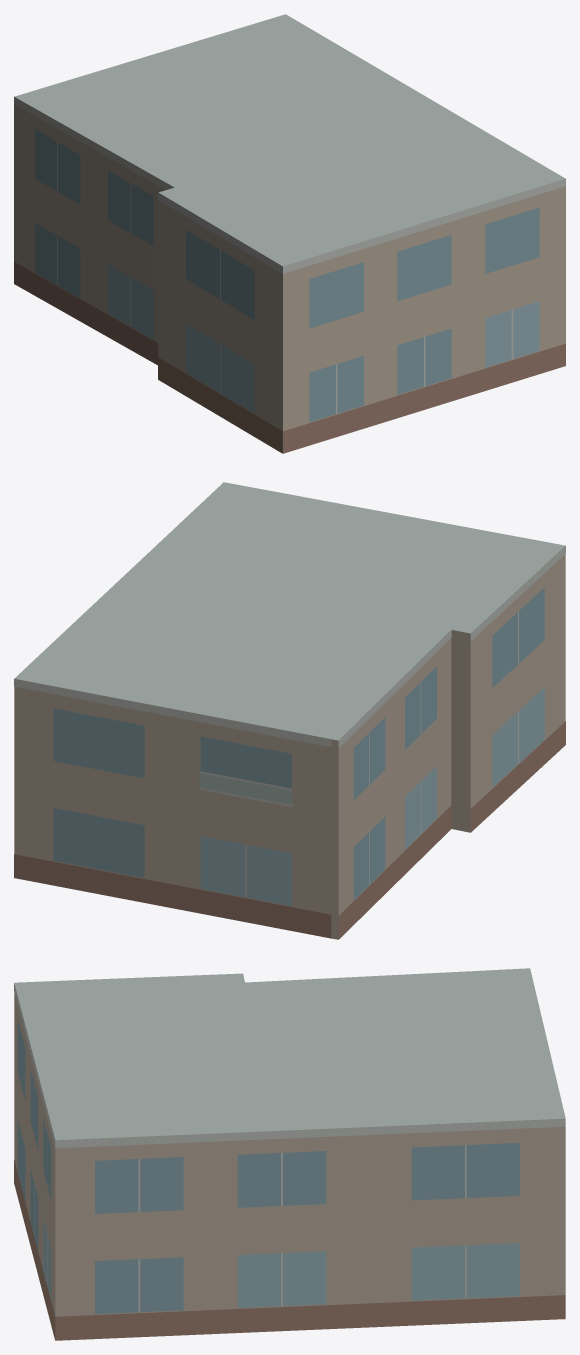
File: survey-upis-32941821.glb
3 renders of one model, top to bottom at view 1: azimuth 30°, elevation 25°; view 2: azimuth 150°, elevation 25°; view 3: azimuth 270°, elevation 25°, orthographic. The views are drawn at different scales.
Parts seen in each view (by area): view 1: survey-upis-32941821.tmp; view 2: survey-upis-32941821.tmp; view 3: survey-upis-32941821.tmp.
Part boxes in pixels (bbox=[...]): survey-upis-32941821.tmp: bbox=[14, 14, 565, 453]; survey-upis-32941821.tmp: bbox=[14, 482, 565, 939]; survey-upis-32941821.tmp: bbox=[14, 968, 565, 1340].
Size of the model in its own units: 11.25 by 6.1 by 15.23.
